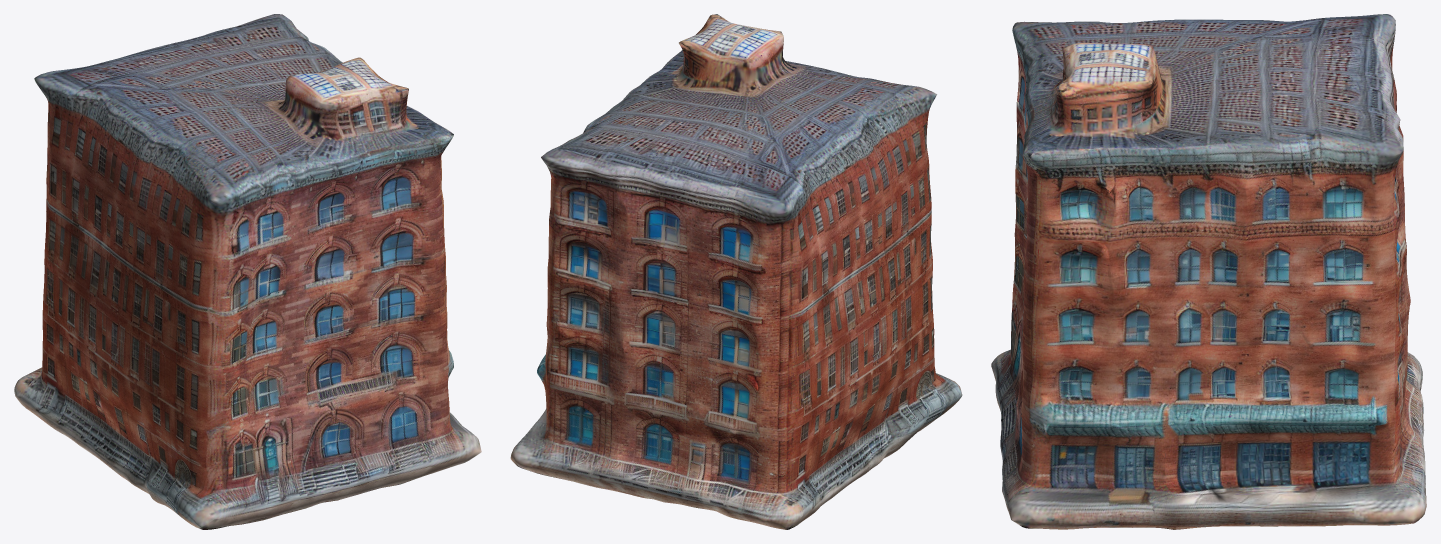
File: NYC_city_old_brick_building_big_6_storey.glb
The picture shows the model from 3 angles, left to right: view 1: azimuth 30°, elevation 25°; view 2: azimuth 150°, elevation 25°; view 3: azimuth 270°, elevation 25°; orthographic projection. The views are drawn at different scales.
Size of the model in its own units: 0.9624 by 1.2 by 1.06.
1 material, 1 textured.
